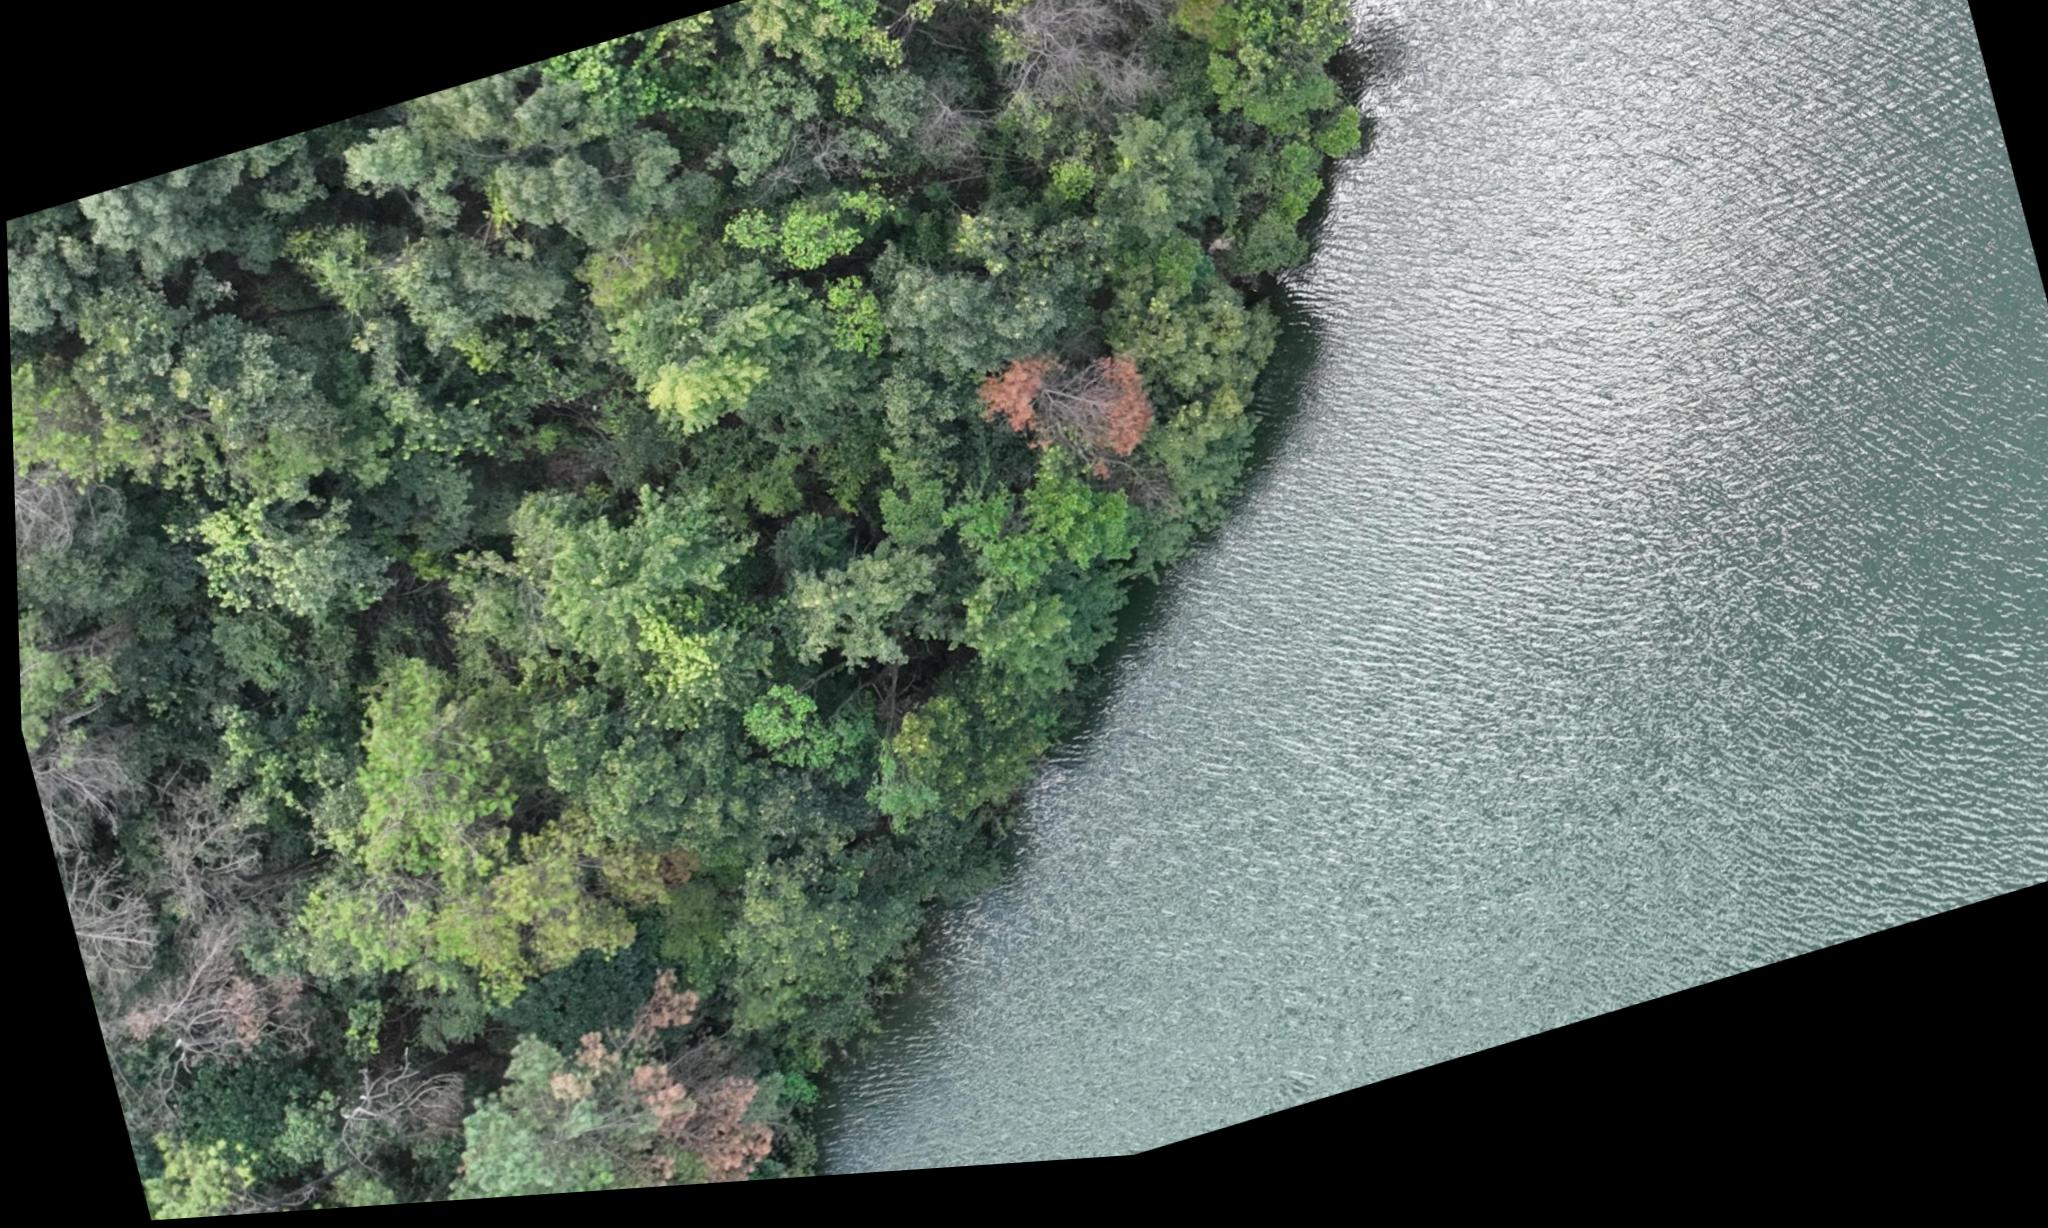dead: (32, 686, 311, 1105), (988, 0, 1191, 148), (339, 1039, 468, 1174), (10, 427, 66, 569)
heavy: (534, 950, 801, 1202), (968, 326, 1168, 512)
